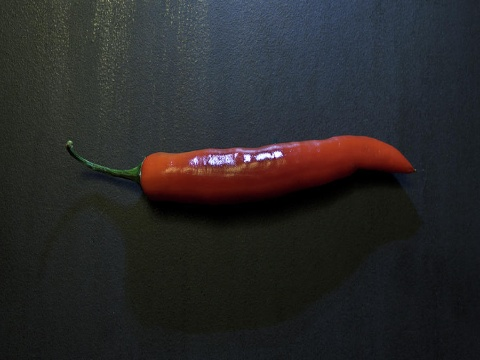Chilli: (59, 125, 424, 206)
